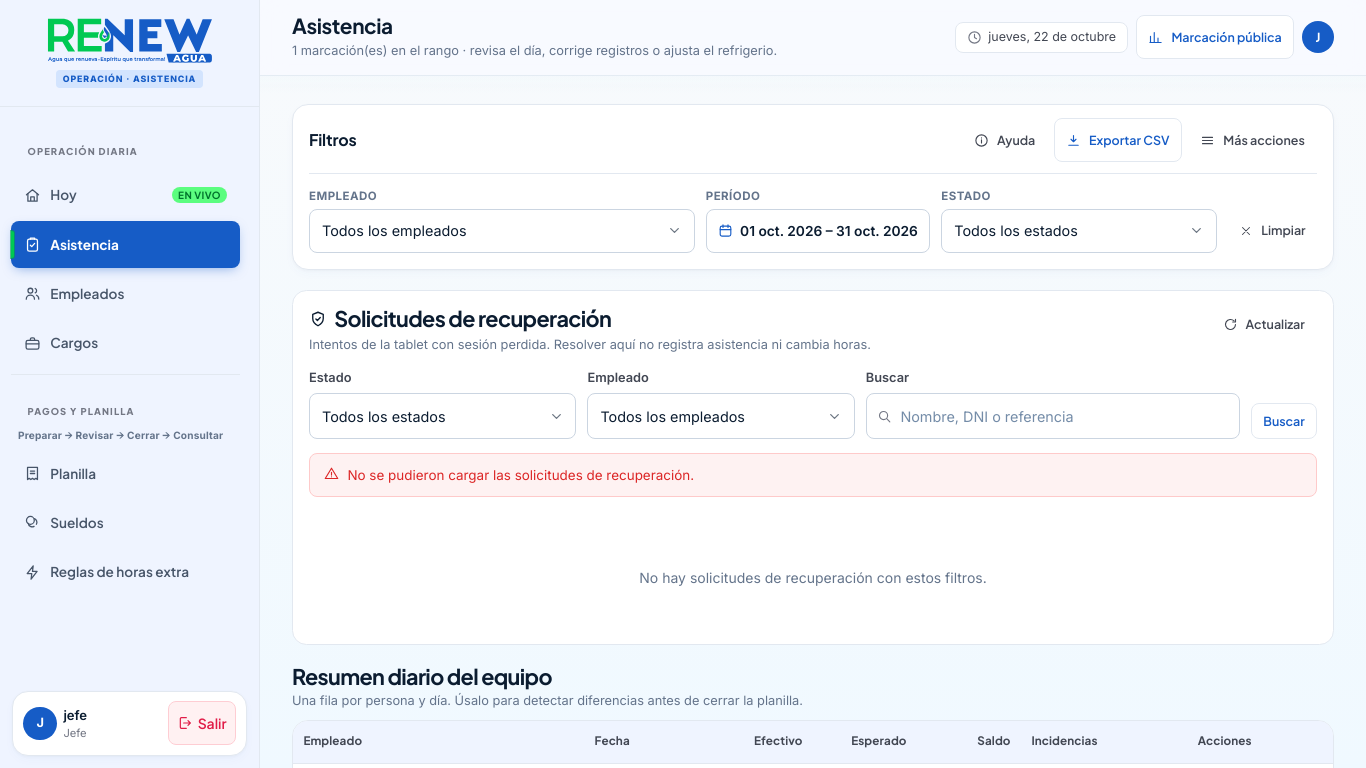
Admin — barra superior de asistencia › BOSS conserva las acciones de gestión
The image size is (1366, 768).
Click the button "Más acciones" at (1253, 140), box [1188, 118, 1317, 162]
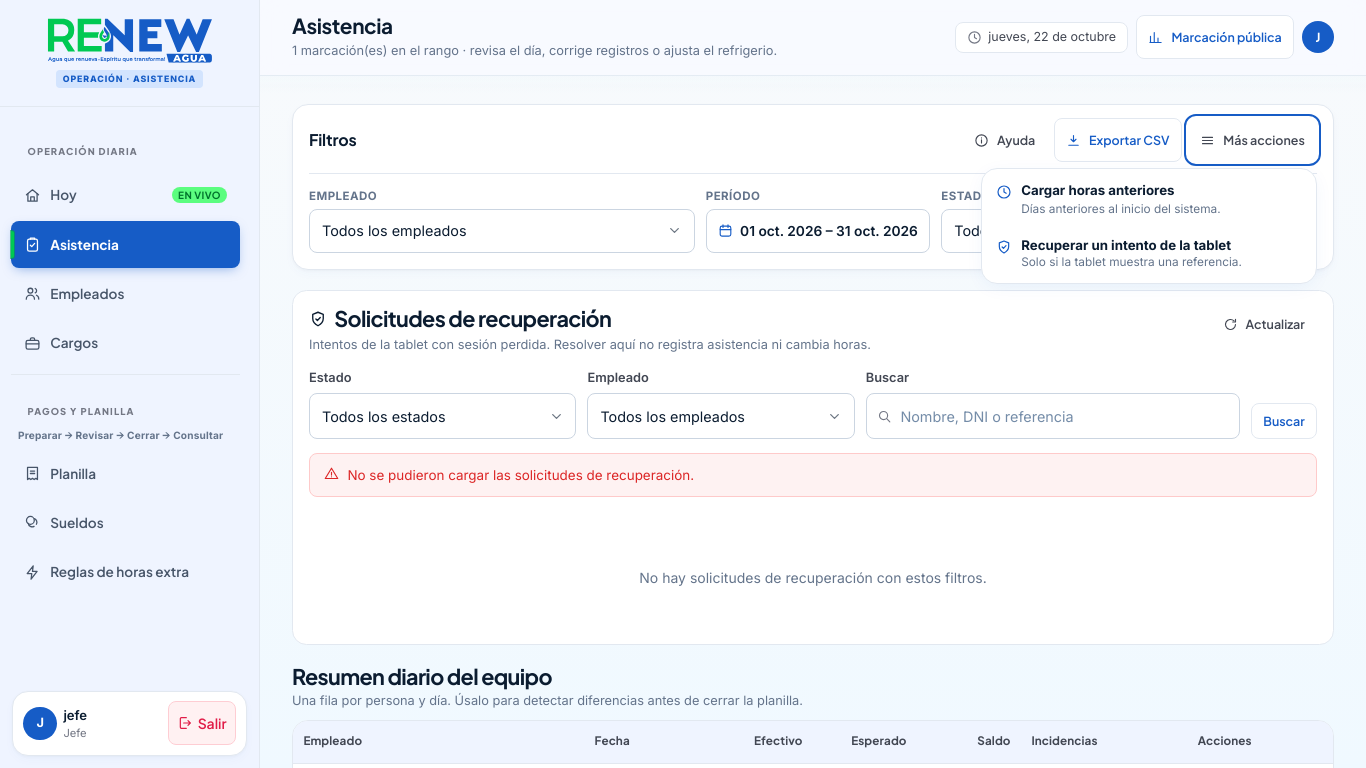
Click the button "Recuperar un intento de la tablet" at (1149, 253), box [987, 228, 1311, 278]
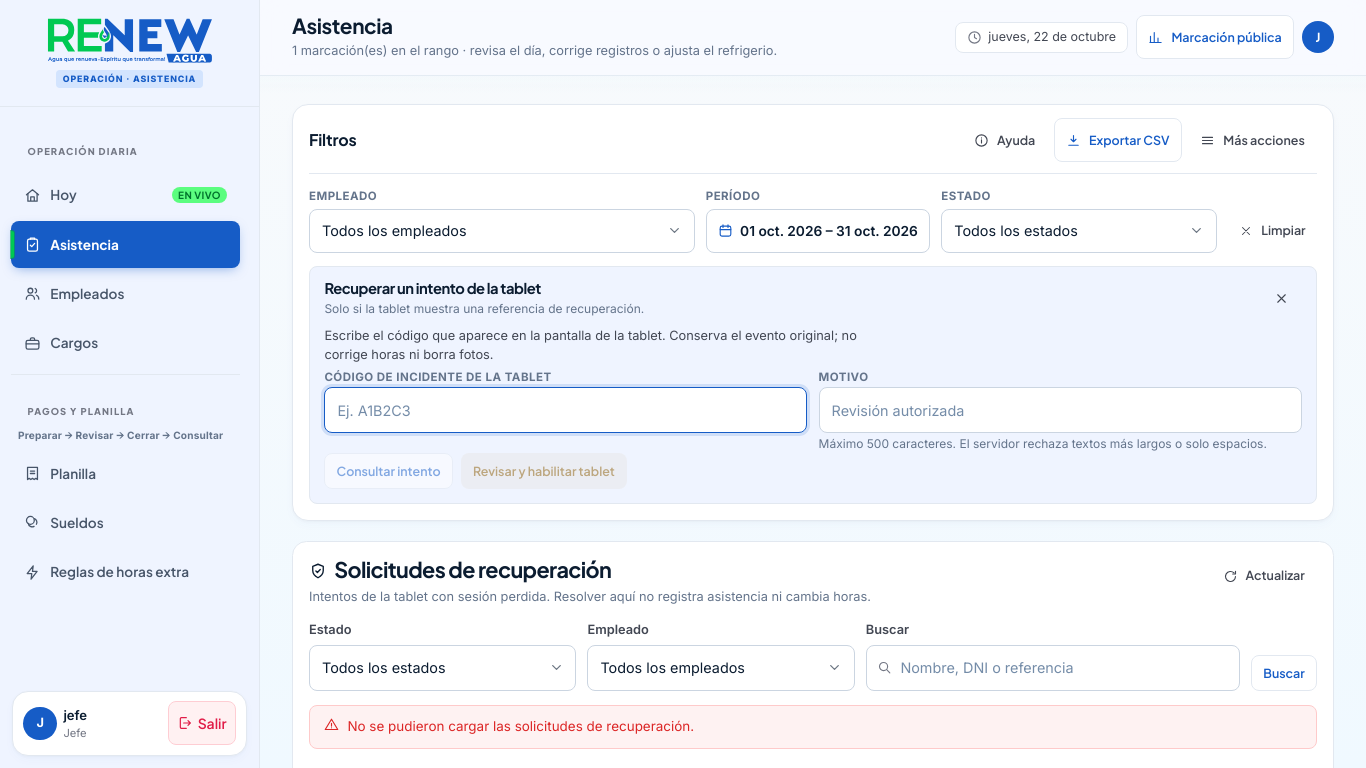
expect the field labelled "Motivo" is shown: met, box [819, 387, 1302, 433]
